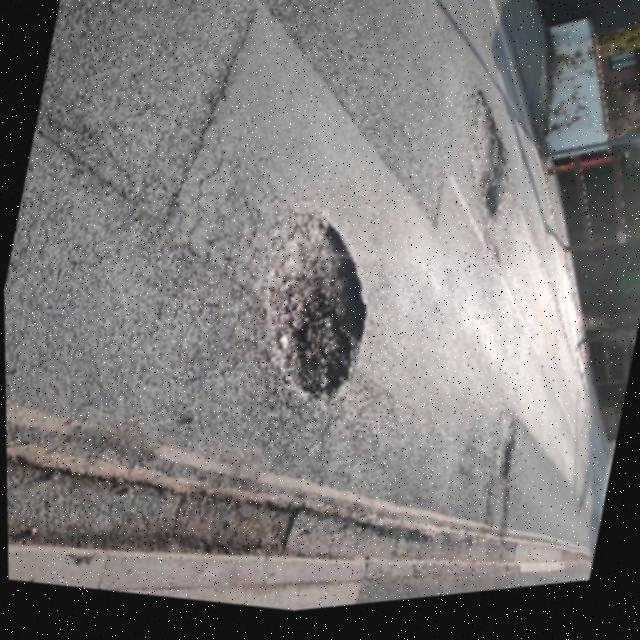Pothole: (231, 196, 407, 431), (420, 79, 543, 254), (469, 417, 536, 507)
